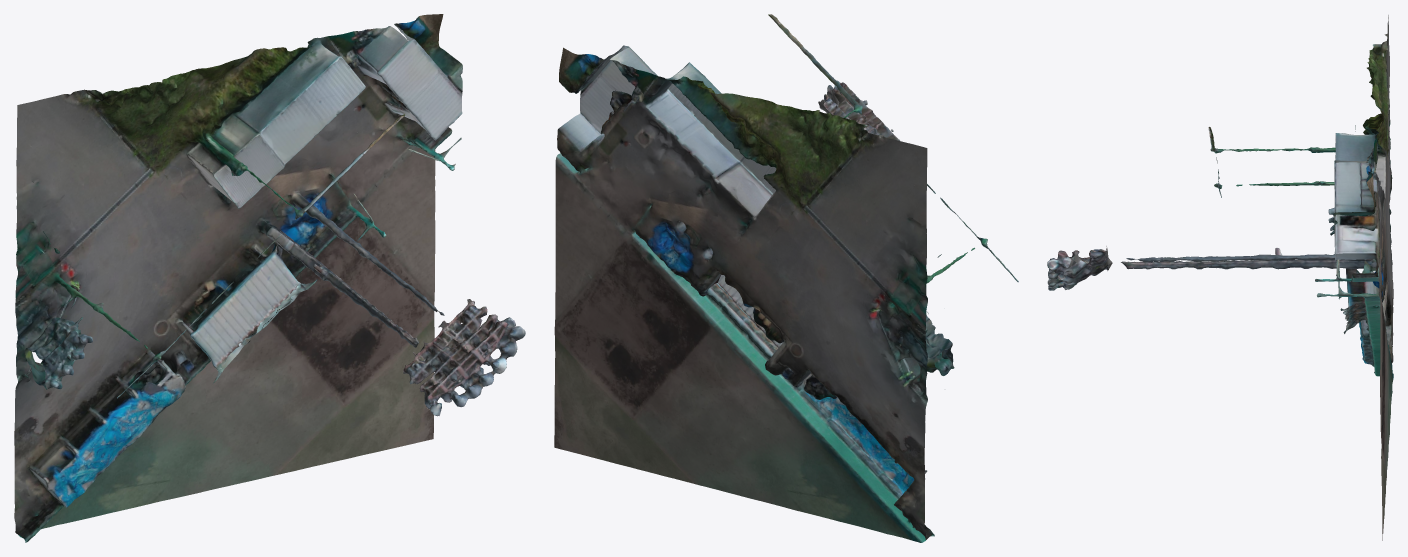
File: Tile_+014_+009.fbx
3 views of the same model, side by side, from view 1: azimuth 30°, elevation 25°; view 2: azimuth 150°, elevation 25°; view 3: azimuth 270°, elevation 25° (orthographic). The views are drawn at different scales.
Visible parts, largest first — view 1: DefaultName; view 2: DefaultName; view 3: DefaultName.
Boxes of the visible parts, x1,y1,x2,y2 form: DefaultName: (14, 14, 525, 542); DefaultName: (554, 14, 1018, 542); DefaultName: (1047, 15, 1393, 540).
Bounding box in the file's own units: 22.54 × 22.54 × 19.63.
